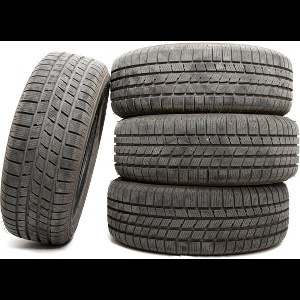tire: (1, 52, 111, 248), (109, 175, 290, 256), (114, 113, 298, 186), (111, 43, 292, 115)
